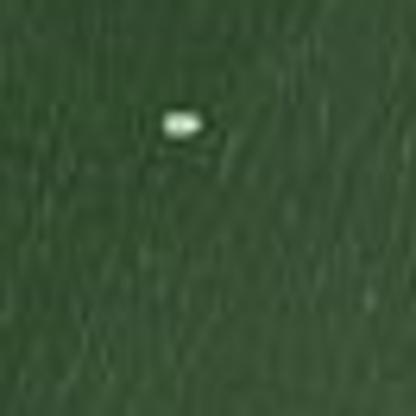ship: (149, 98, 213, 143)
